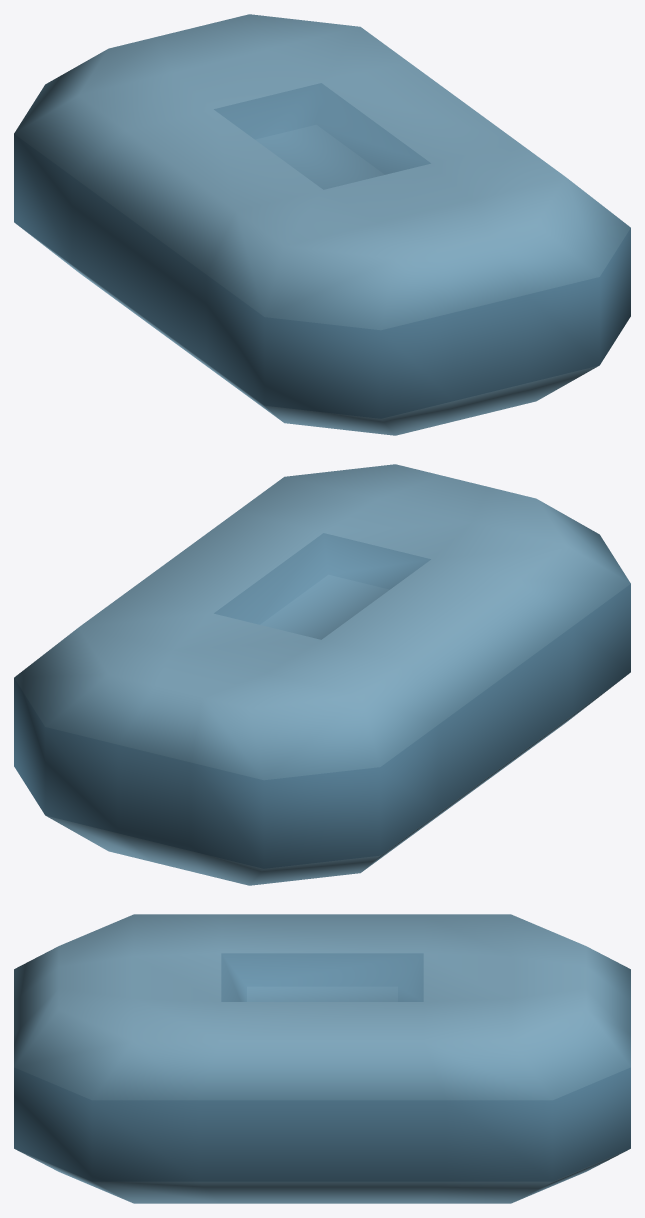
3 views of the same model, one above another, from view 1: azimuth 30°, elevation 25°; view 2: azimuth 150°, elevation 25°; view 3: azimuth 270°, elevation 25° (orthographic). The views are drawn at different scales.
Visible parts, largest first — view 1: Soap_Box; view 2: Soap_Box; view 3: Soap_Box.
Boxes of the visible parts, x1,y1,x2,y2 form: Soap_Box: (14, 14, 630, 435); Soap_Box: (14, 464, 630, 885); Soap_Box: (14, 914, 630, 1203).
Bounding box in the file's own units: 0.315 × 0.1455 × 0.5.
